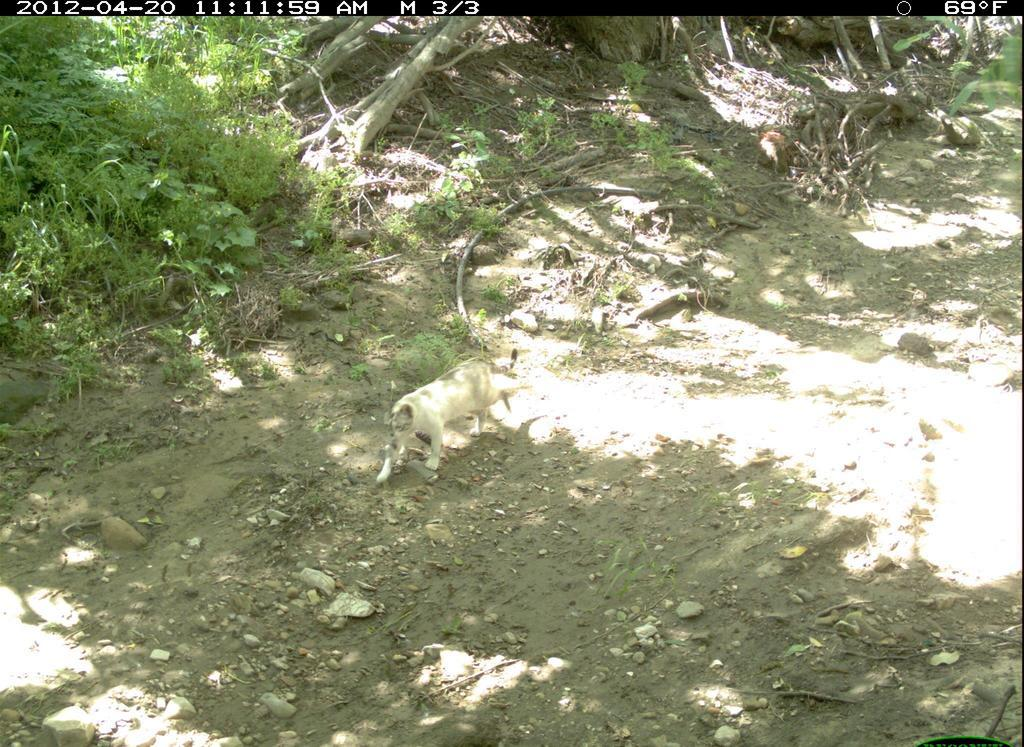cat: (369, 346, 527, 491)
